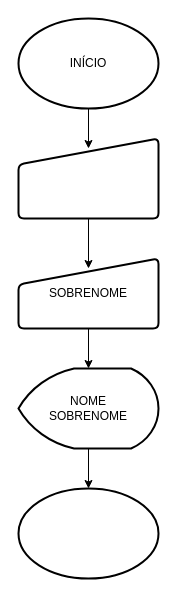
This 176x596 diagram has some shape labels left out. The shapes that lost their labels are listed below. From the top down, each one's centre as x and y in pixels, then its label:
point (88, 178): NOME
point (88, 533): FIM
